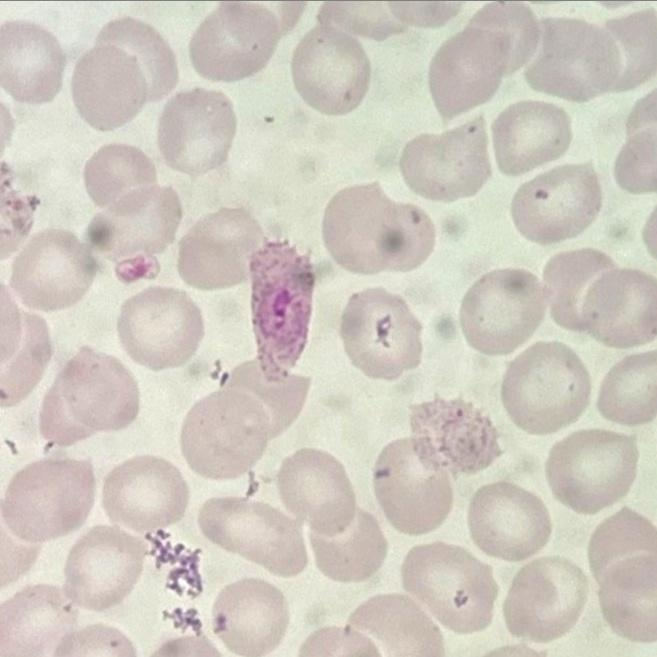Infected: (248, 239, 313, 376), (412, 394, 503, 474)
Uninfected: (320, 181, 431, 275), (40, 347, 140, 449), (399, 541, 498, 634), (427, 21, 519, 119), (197, 497, 307, 576), (180, 385, 271, 479), (87, 182, 182, 272), (3, 457, 97, 546), (502, 341, 591, 433), (528, 18, 625, 102), (369, 440, 454, 534), (398, 119, 493, 202), (338, 287, 423, 379), (71, 42, 159, 130), (459, 268, 549, 354), (177, 209, 273, 288), (189, 4, 286, 82), (545, 430, 635, 514), (115, 286, 203, 369), (510, 163, 600, 244), (61, 527, 147, 611), (503, 555, 586, 642), (100, 456, 189, 537), (274, 448, 357, 534), (466, 480, 553, 562), (536, 248, 618, 335), (10, 229, 95, 311), (572, 267, 657, 349), (156, 90, 236, 175), (290, 27, 369, 113), (344, 592, 446, 657), (209, 577, 291, 657), (225, 356, 310, 433), (459, 2, 541, 81), (489, 101, 569, 176), (306, 508, 385, 583), (586, 509, 654, 594), (1, 20, 66, 103), (0, 586, 76, 654), (595, 346, 657, 428), (81, 143, 160, 206), (94, 15, 171, 63)
